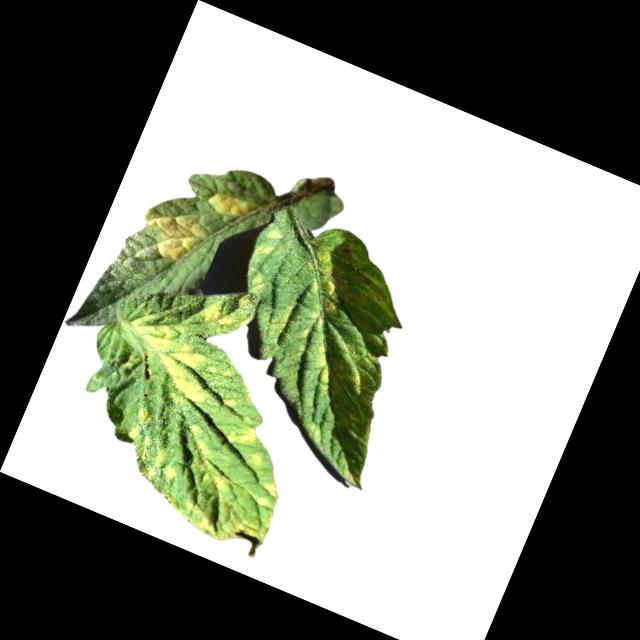Leaf_Mold: (165, 443, 288, 557), (110, 301, 230, 406), (132, 197, 215, 272), (297, 248, 356, 317), (202, 183, 255, 225), (123, 403, 163, 449), (143, 444, 182, 488), (262, 296, 297, 345), (222, 412, 260, 455), (199, 299, 237, 334), (336, 364, 368, 390), (248, 238, 275, 265)
